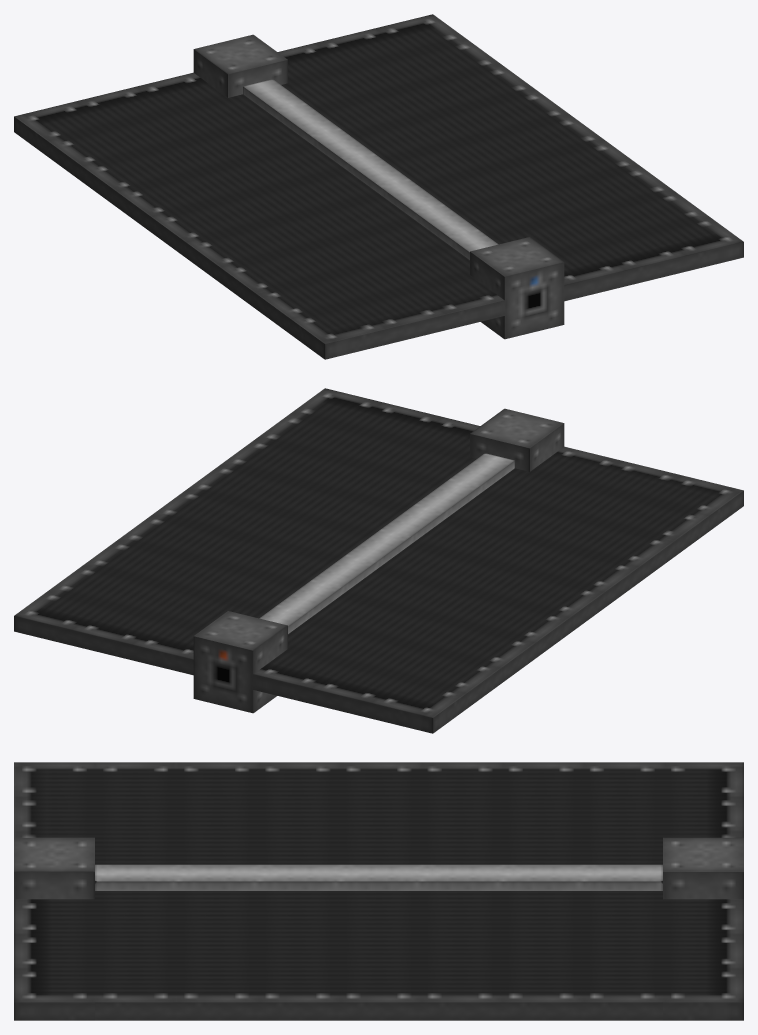
Rendered from radiator_horizontal.obj.
3 views of the same model, one above another, from view 1: azimuth 30°, elevation 25°; view 2: azimuth 150°, elevation 25°; view 3: azimuth 270°, elevation 25° (orthographic). The views are drawn at different scales.
Visible parts, largest first — view 1: cube; view 2: cube; view 3: cube.
Boxes of the visible parts, box(x1,y1,x2,y2) form: cube: box(14, 14, 743, 359); cube: box(14, 388, 743, 733); cube: box(14, 762, 743, 1020).
Bounding box in the file's own units: 7 × 1 × 9.
